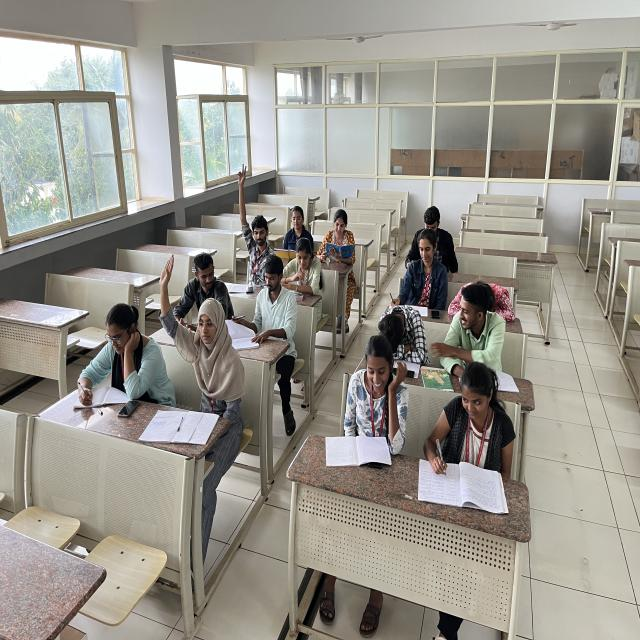Hand Rising: (156, 255, 234, 412), (233, 164, 276, 276)
Reading: (338, 334, 402, 461), (244, 255, 292, 348), (272, 204, 316, 260), (322, 206, 356, 265)
Sleeping: (379, 304, 434, 362), (449, 280, 520, 322)
Writing: (418, 369, 506, 498), (70, 302, 160, 403), (388, 230, 438, 312)
